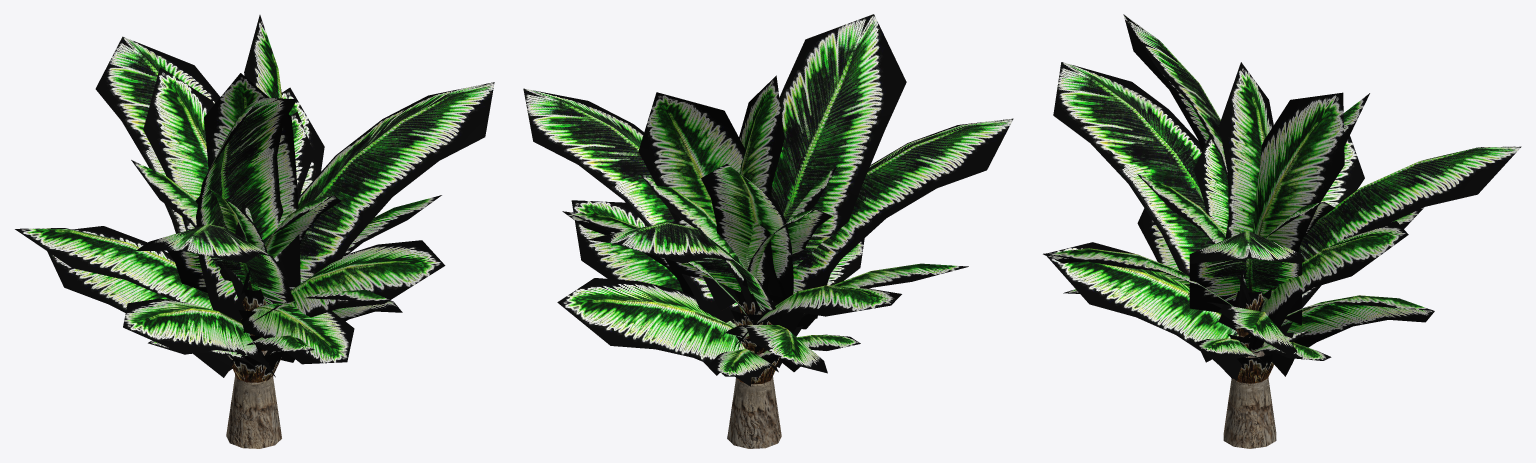
Rendered from palm5.dae.
3 views of the same model, side by side, from view 1: azimuth 30°, elevation 25°; view 2: azimuth 150°, elevation 25°; view 3: azimuth 270°, elevation 25° (orthographic). The views are drawn at different scales.
Parts seen in each view (by area): view 1: polySurface335_001_005; view 2: polySurface335_001_005; view 3: polySurface335_001_005.
Part boxes in pixels (x1,y1,x2,y2): polySurface335_001_005: (15, 15, 494, 448); polySurface335_001_005: (523, 14, 1013, 448); polySurface335_001_005: (1043, 14, 1521, 448).
Bounding box in the file's own units: 4.73 × 4.65 × 4.23.
Materials: 2 (2 with a texture image).
